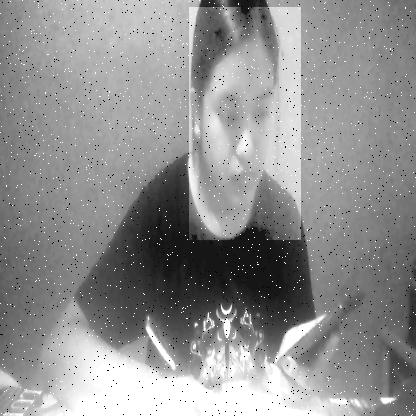Distracted: (189, 7, 301, 240)
